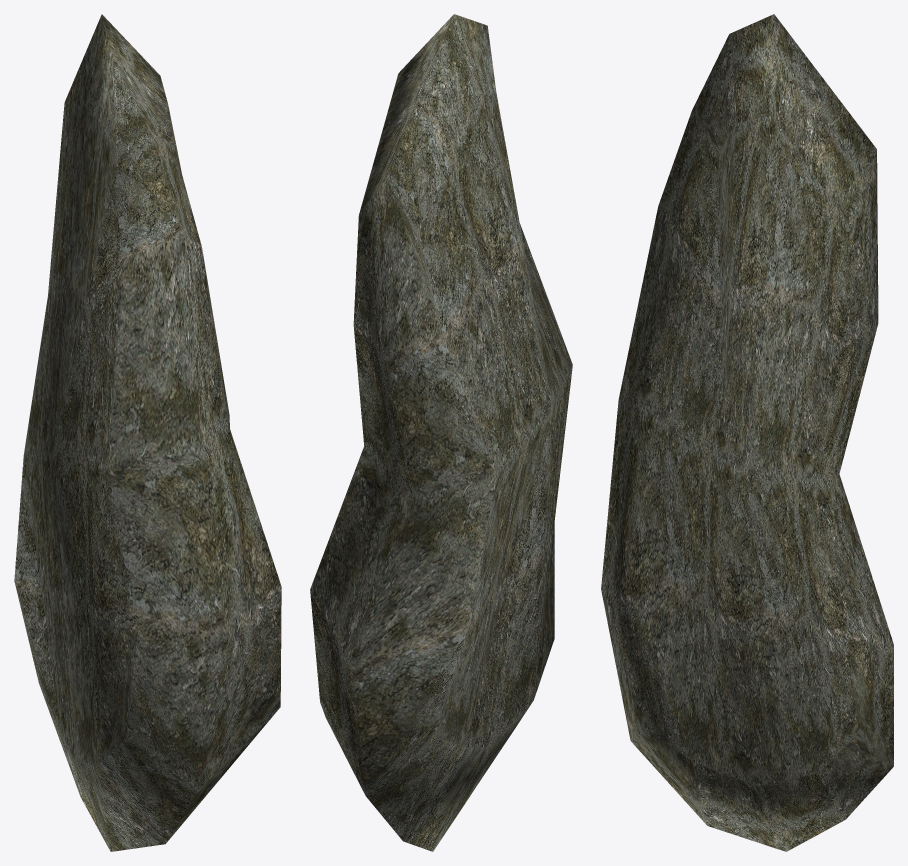
File: rock_dant_a3_l1.fbx
3 views of the same model, side by side, from view 1: azimuth 30°, elevation 25°; view 2: azimuth 150°, elevation 25°; view 3: azimuth 270°, elevation 25° (orthographic).
Visible parts, largest first — view 1: mesh_node; view 2: mesh_node; view 3: mesh_node.
Boxes of the visible parts, <box> form: mesh_node: <box>14,14,281,851</box>; mesh_node: <box>310,14,572,851</box>; mesh_node: <box>601,14,893,851</box>.
Size of the model in its own units: 1.2 by 5.15 by 1.65.
1 material, 1 textured.
